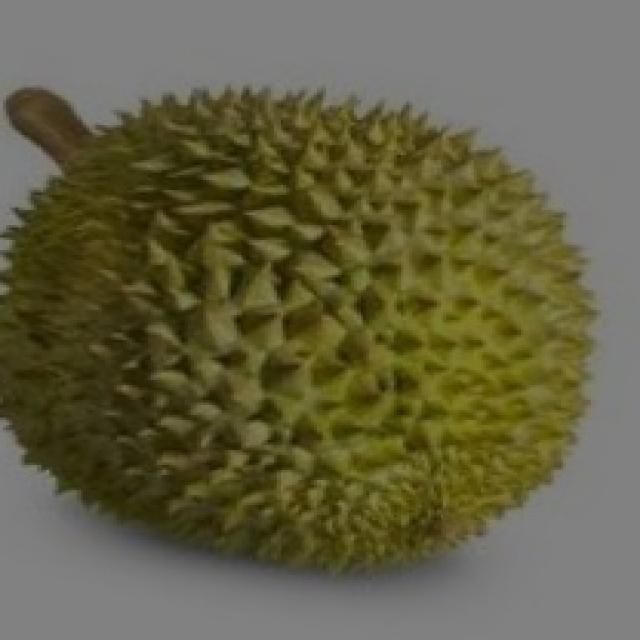fruit: (277, 228, 640, 622), (0, 232, 360, 622)
